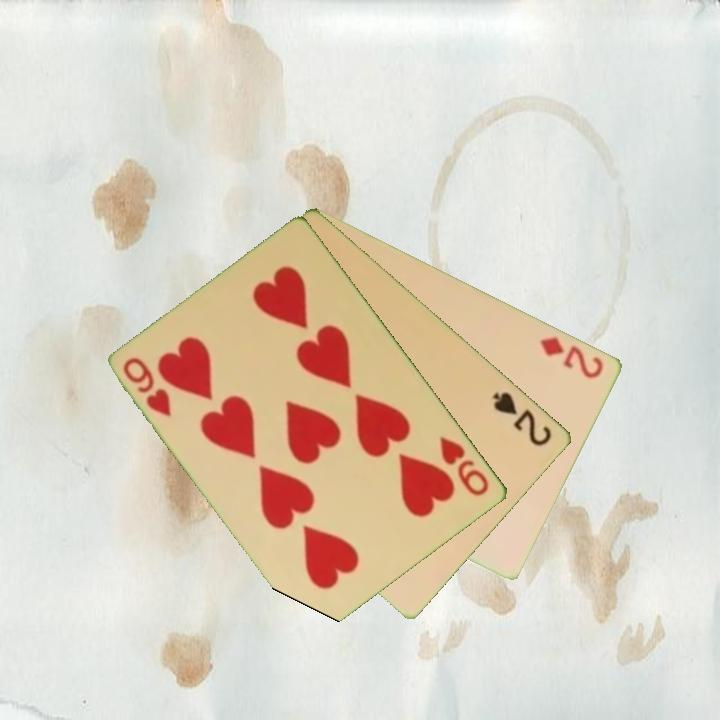2d: (537, 333, 607, 382)
2s: (489, 388, 555, 449)
9h: (436, 432, 493, 499), (119, 353, 175, 420)
